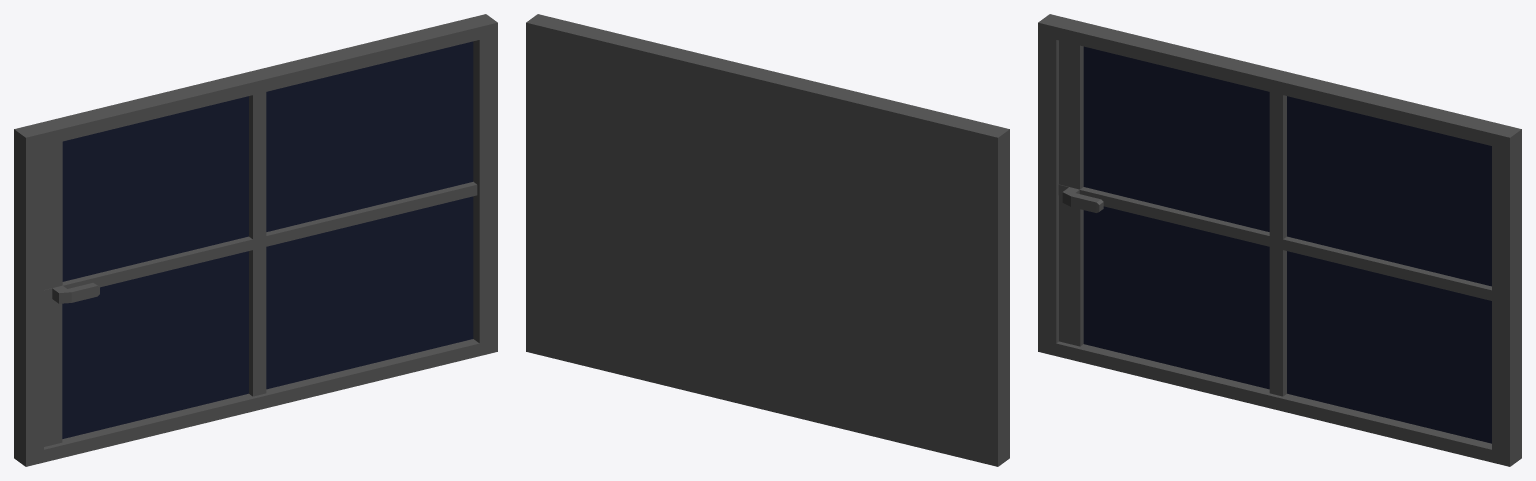
File: windowver1.fbx
The picture shows the model from 3 angles, left to right: view 1: azimuth 30°, elevation 25°; view 2: azimuth 150°, elevation 25°; view 3: azimuth 330°, elevation 25°; orthographic projection.
Parts seen in each view (by area): view 1: Cube; view 2: Cube; view 3: Cube.
Boxes of the visible parts, x1,y1,x2,y2 form: Cube: (14,14,497,466); Cube: (526,14,1009,466); Cube: (1038,14,1521,466).
Bounding box in the file's own units: 248 × 165 × 16.69.
